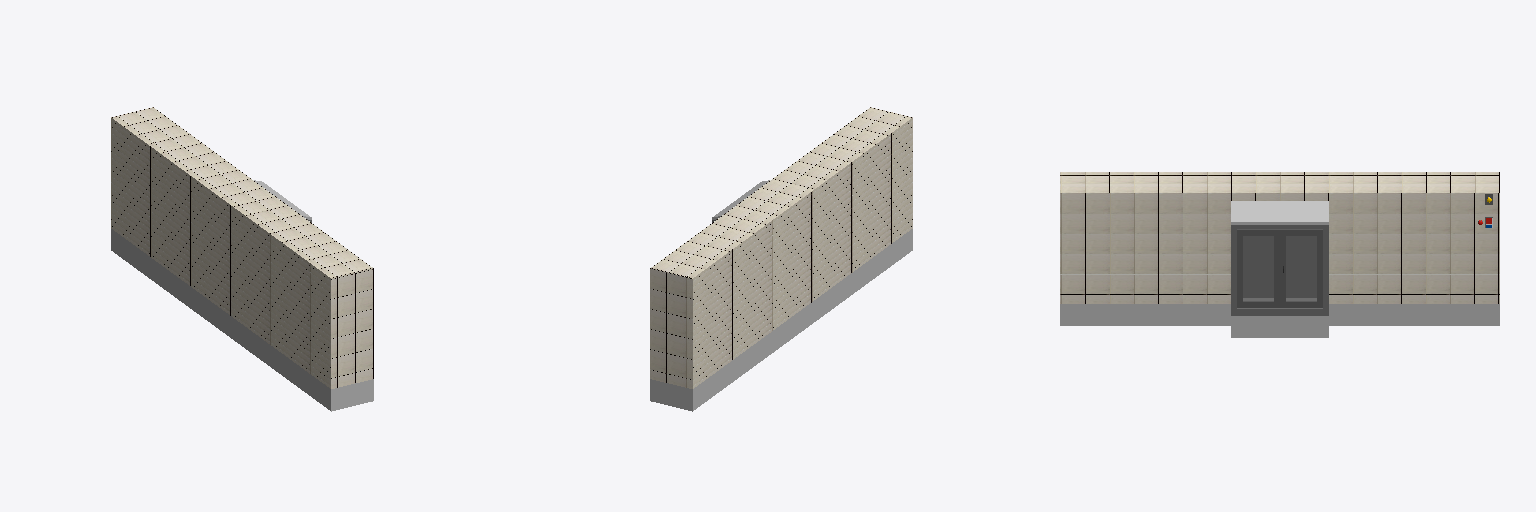
3 views of the same model, side by side, from view 1: azimuth 30°, elevation 25°; view 2: azimuth 150°, elevation 25°; view 3: azimuth 270°, elevation 25° (orthographic).
Visible parts, largest first — view 1: Cube.001_Cube.002; view 2: Cube.001_Cube.002; view 3: Cube.001_Cube.002, Cube.001_Cube.001.
Boxes of the visible parts, x1,y1,x2,y2 form: Cube.001_Cube.002: [111, 107, 373, 411]; Cube.001_Cube.002: [650, 107, 912, 411]; Cube.001_Cube.002: [1060, 172, 1499, 325]; Cube.001_Cube.001: [1231, 201, 1328, 337].
Bounding box in the file's own units: 1.65 × 3 × 9.
Materials: 27 (6 with a texture image).